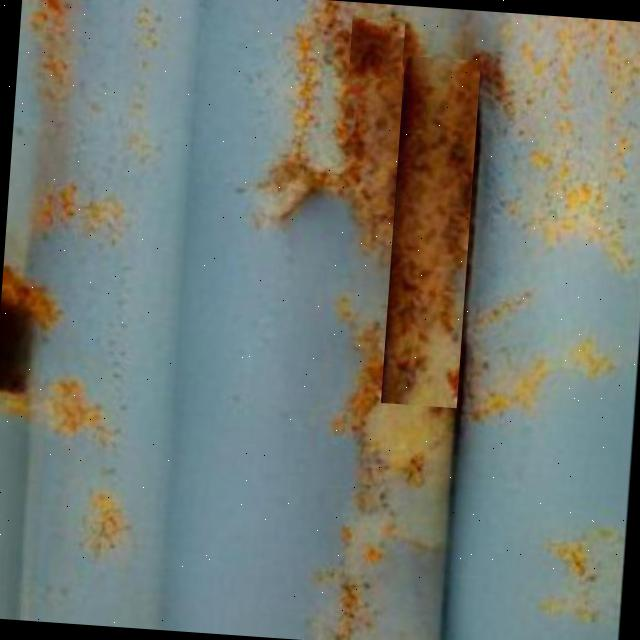Corrosion: (0, 0, 640, 640), (213, 0, 518, 640)
